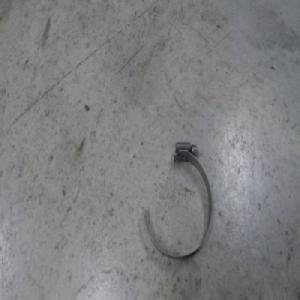AdjustableClamp: (140, 137, 212, 257)
